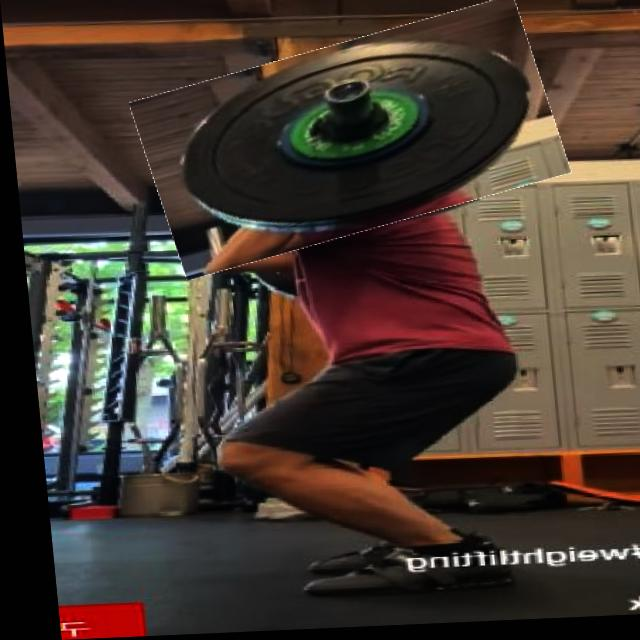barbell: (130, 22, 566, 263)
